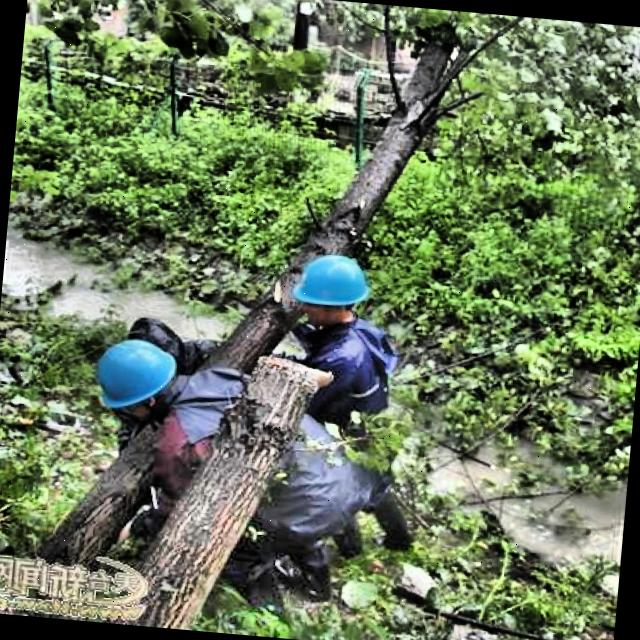helmet: (85, 326, 189, 429), (287, 249, 378, 331)
